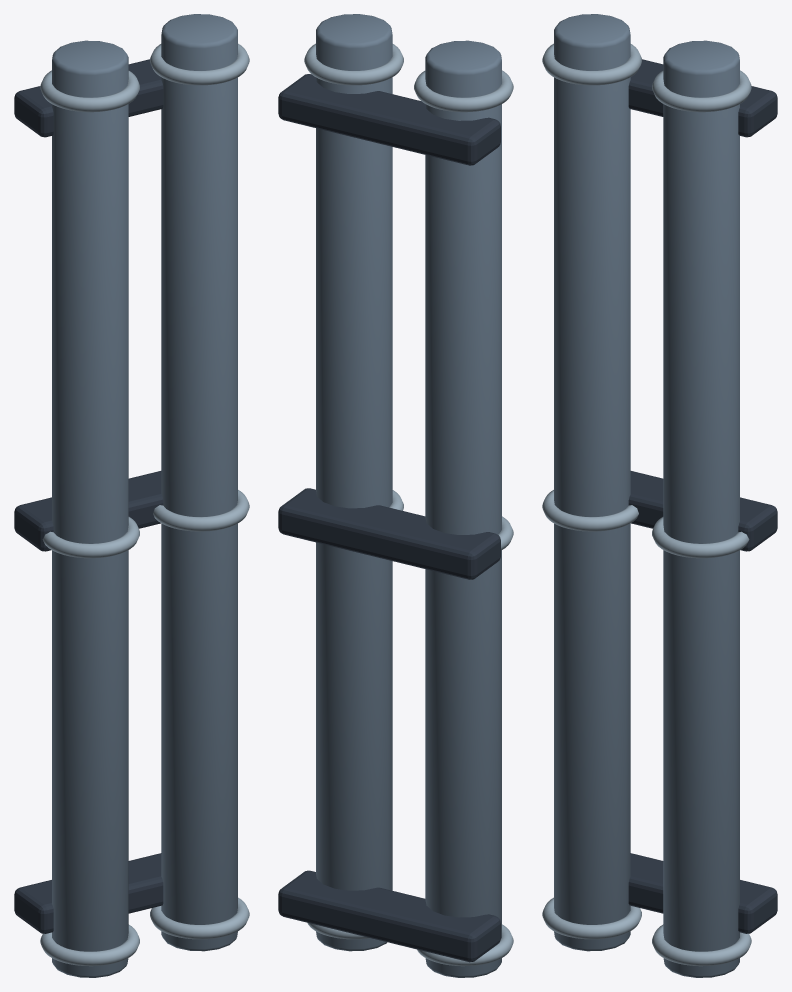
The model's file is Pipe.fbx.
The picture shows the model from 3 angles, left to right: view 1: azimuth 30°, elevation 25°; view 2: azimuth 150°, elevation 25°; view 3: azimuth 330°, elevation 25°; orthographic projection.
Parts seen in each view (by area): view 1: IndustrialPipe, IndustrialPipe.001, PipeBracket, PipeBracket.001, PipeBracket.002, PipeCollar.002, PipeCollar.005, PipeCollar, PipeCollar.003, PipeCollar.001, PipeCollar.004; view 2: IndustrialPipe, IndustrialPipe.001, PipeBracket, PipeBracket.001, PipeBracket.002, PipeCollar.002, PipeCollar.005, PipeCollar; view 3: IndustrialPipe.001, IndustrialPipe, PipeBracket, PipeBracket.001, PipeBracket.002, PipeCollar.005, PipeCollar.002, PipeCollar.003, PipeCollar, PipeCollar.004, PipeCollar.001.
Boxes of the visible parts, <box> form: IndustrialPipe: <box>52,40,128,977</box>; IndustrialPipe.001: <box>161,14,237,951</box>; PipeBracket: <box>14,853,163,933</box>; PipeBracket.001: <box>14,471,163,551</box>; PipeBracket.002: <box>14,59,163,137</box>; PipeCollar.002: <box>40,70,139,112</box>; PipeCollar.005: <box>150,43,249,85</box>; PipeCollar: <box>40,924,139,966</box>; PipeCollar.003: <box>150,897,249,939</box>; PipeCollar.001: <box>42,517,139,558</box>; PipeCollar.004: <box>153,490,249,531</box>; IndustrialPipe: <box>425,40,501,977</box>; IndustrialPipe.001: <box>316,14,392,951</box>; PipeBracket: <box>278,870,500,962</box>; PipeBracket.001: <box>278,488,500,579</box>; PipeBracket.002: <box>278,74,500,165</box>; PipeCollar.002: <box>414,70,513,112</box>; PipeCollar.005: <box>304,43,403,85</box>; PipeCollar: <box>417,924,513,966</box>; IndustrialPipe.001: <box>663,40,739,977</box>; IndustrialPipe: <box>554,14,630,951</box>; PipeBracket: <box>628,853,777,933</box>; PipeBracket.001: <box>628,471,777,551</box>; PipeBracket.002: <box>628,59,777,137</box>; PipeCollar.005: <box>652,70,751,112</box>; PipeCollar.002: <box>542,43,641,85</box>; PipeCollar.003: <box>652,924,751,966</box>; PipeCollar: <box>542,897,641,939</box>; PipeCollar.004: <box>652,517,749,558</box>; PipeCollar.001: <box>542,490,638,531</box>.
Size of the model in its own units: 0.65 by 2.85 by 0.337.
